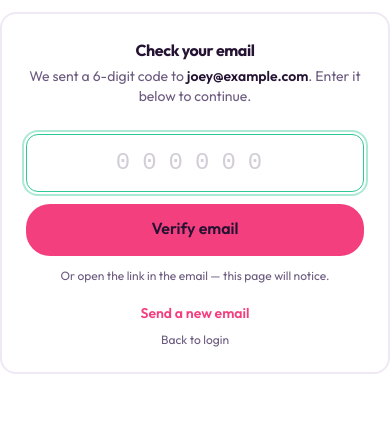
Test case: code entry › does not spend a server attempt on a short code
The image size is (390, 427).
Type "12345" into the field named "Verification code" at (195, 163), box [26,134,364,192]
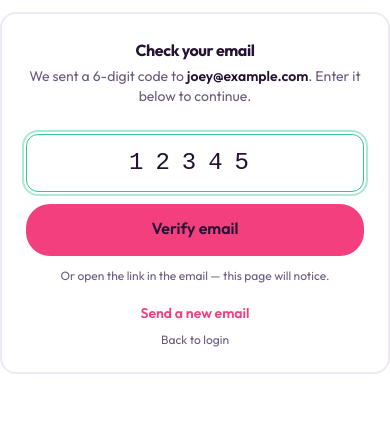
Click the button "Verify email" at (195, 228), box [26,204,364,252]
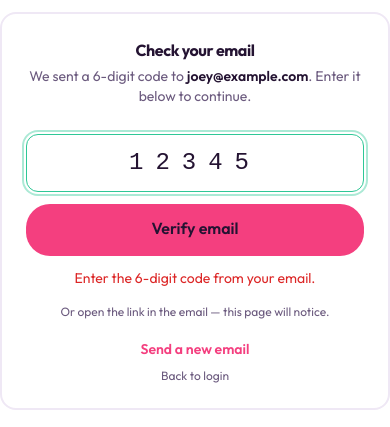
Expected: the text "Enter the 6-digit code from your email." is shown, [74,269,315,287]
